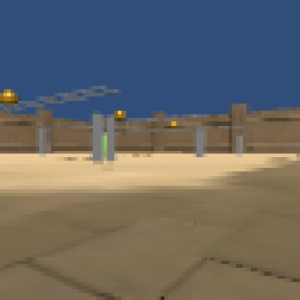goodGoal: (104, 132, 109, 160)
goodGoalMulti: (1, 88, 22, 109), (112, 108, 131, 122), (169, 120, 178, 129)
wall: (89, 112, 104, 164), (195, 127, 210, 161), (108, 114, 117, 165), (39, 125, 53, 152), (233, 136, 244, 157)
